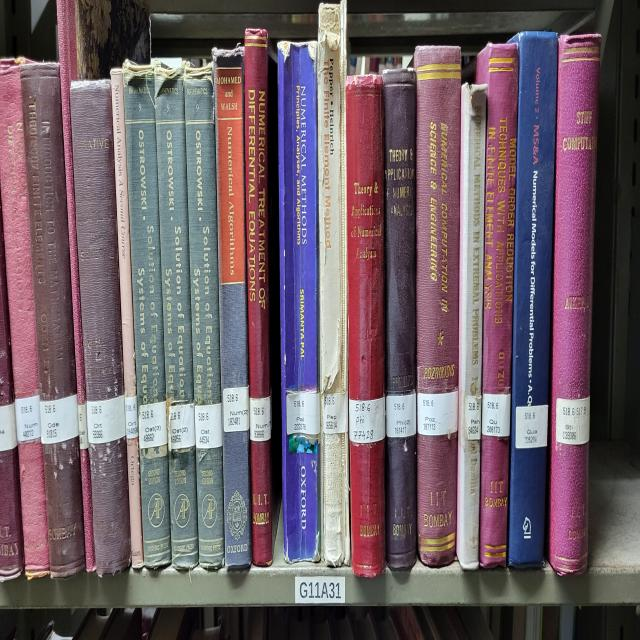Book: (21, 62, 85, 576), (70, 78, 131, 576), (549, 35, 600, 574), (509, 32, 558, 565), (0, 57, 50, 576), (415, 46, 461, 568), (124, 62, 171, 568), (155, 65, 199, 568), (278, 43, 320, 563), (478, 43, 519, 568), (58, 0, 95, 571), (184, 65, 225, 568), (214, 49, 252, 571), (346, 76, 385, 576), (318, 0, 350, 565), (110, 68, 144, 568), (382, 70, 416, 568), (456, 84, 486, 568), (245, 30, 272, 565)
Label: (465, 392, 510, 441), (86, 395, 126, 444), (40, 395, 79, 444), (418, 390, 458, 436), (349, 398, 385, 444), (515, 403, 549, 449), (556, 398, 590, 444), (139, 400, 168, 449), (386, 392, 416, 438), (15, 395, 41, 444), (195, 403, 222, 449), (222, 387, 249, 433), (290, 392, 320, 433), (170, 403, 195, 449), (322, 392, 348, 433), (249, 395, 271, 441), (125, 395, 139, 438), (78, 403, 89, 449)
